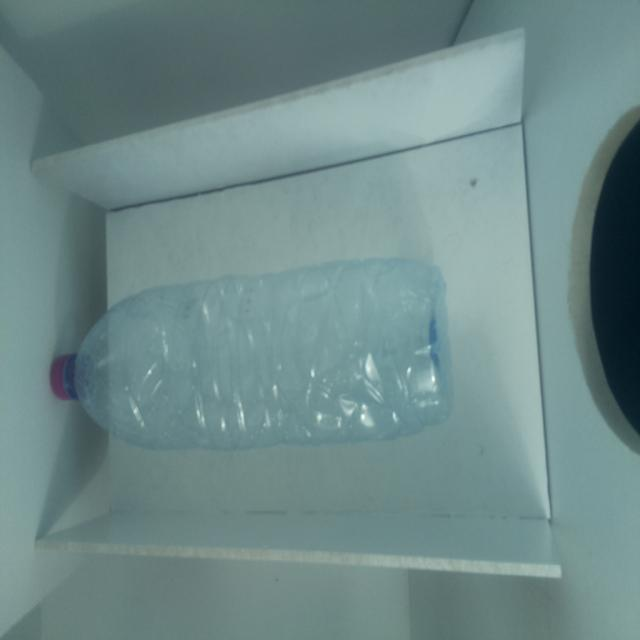Anorganik: (37, 264, 472, 458)
